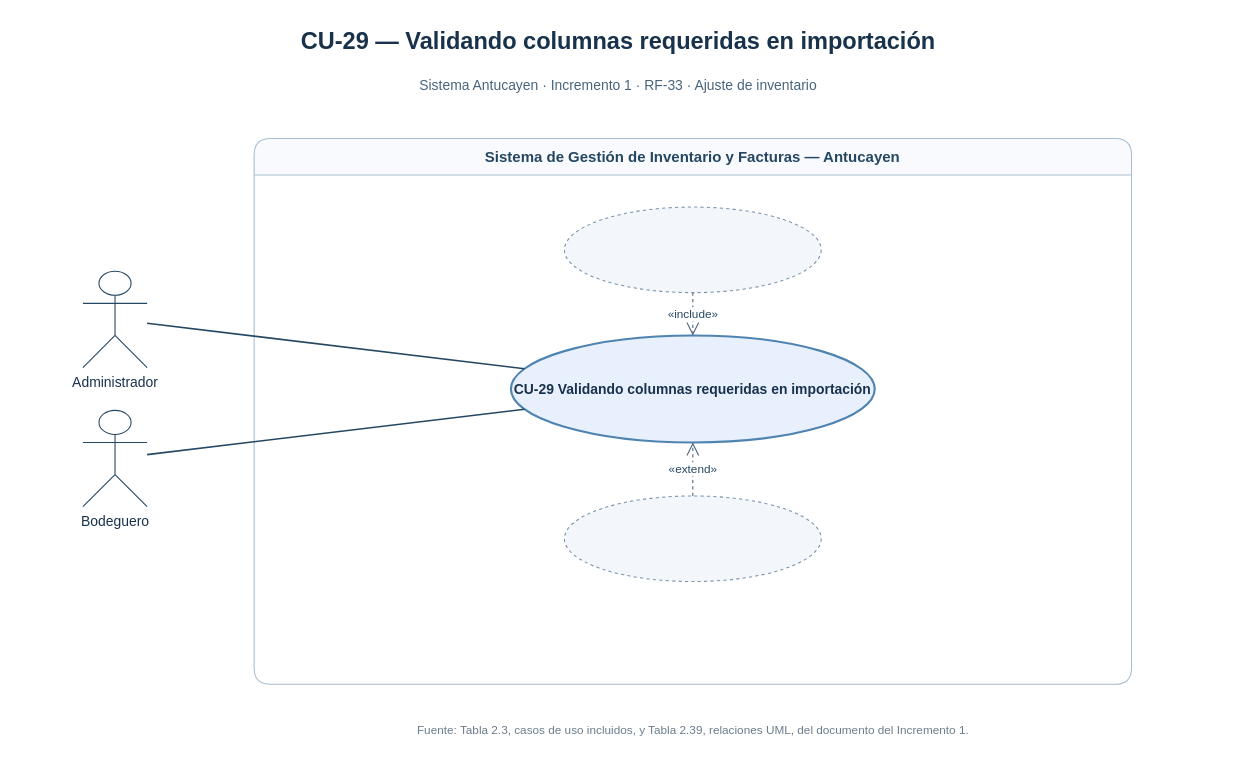
Image size: 1235x762. Some labels were removed from this diagram. The centre of each missing label's shape, as x and y in pixels:
"CU-27 Importando archivo Excel de ajuste de inventario" belongs at (x=692, y=249).
"CU-30 Rechazando importación por estructura inválida" belongs at (x=692, y=538).
